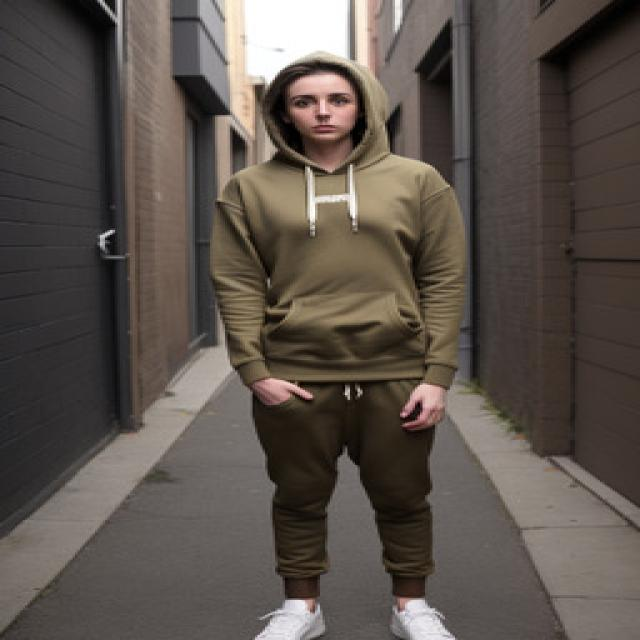Ai human 2: (191, 39, 494, 640)
